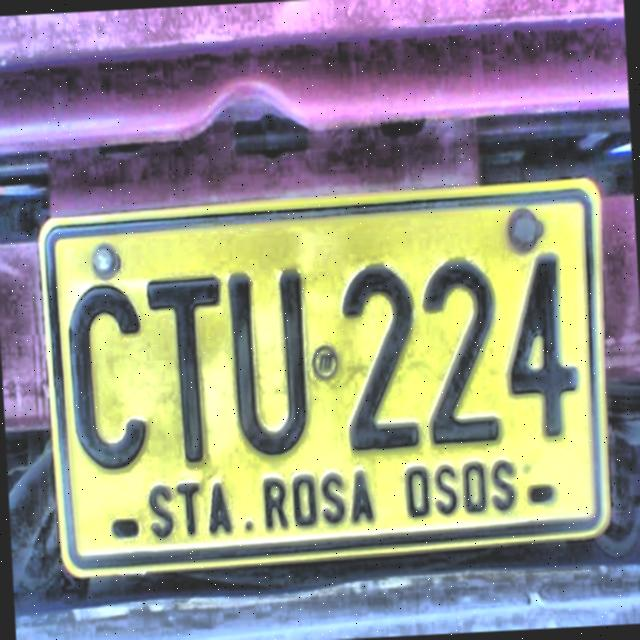plate: (37, 177, 612, 581)
